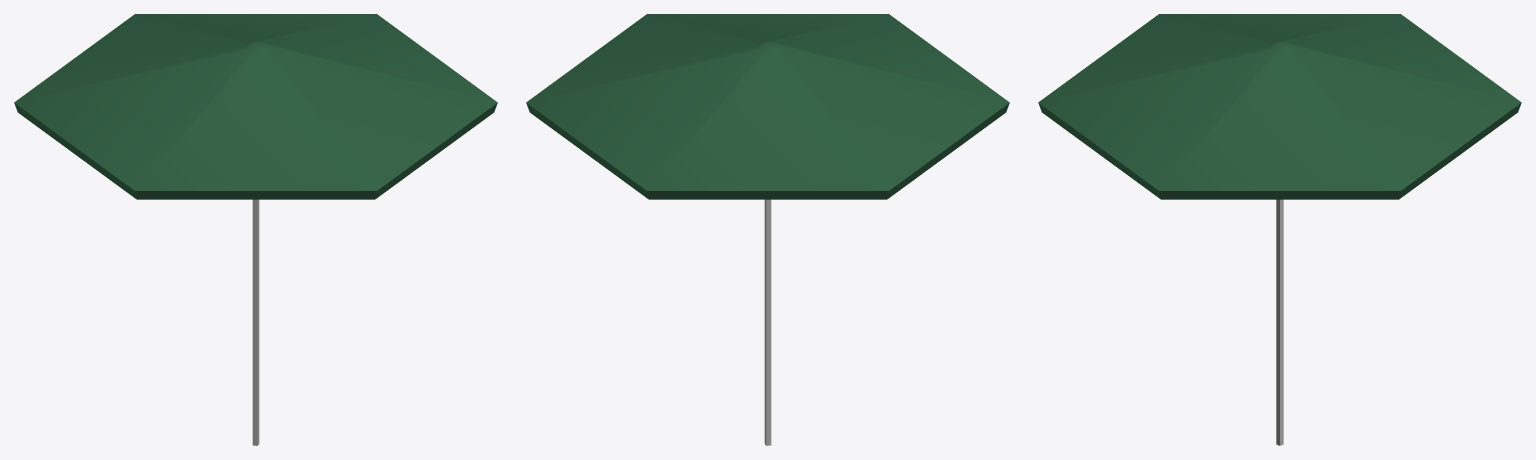
File: SM_Prop_cafe_parasol_1_LOD2.glb
3 renders of one model, left to right at view 1: azimuth 30°, elevation 25°; view 2: azimuth 150°, elevation 25°; view 3: azimuth 270°, elevation 25°, orthographic.
Parts seen in each view (by area): view 1: SM_Prop_cafe_parasol_1_LOD2; view 2: SM_Prop_cafe_parasol_1_LOD2; view 3: SM_Prop_cafe_parasol_1_LOD2.
Part boxes in pixels (bbox=[...]): SM_Prop_cafe_parasol_1_LOD2: bbox=[14, 14, 497, 445]; SM_Prop_cafe_parasol_1_LOD2: bbox=[526, 14, 1009, 445]; SM_Prop_cafe_parasol_1_LOD2: bbox=[1038, 14, 1521, 445].
Bounding box in the file's own units: 2.29 × 2.42 × 2.64.
